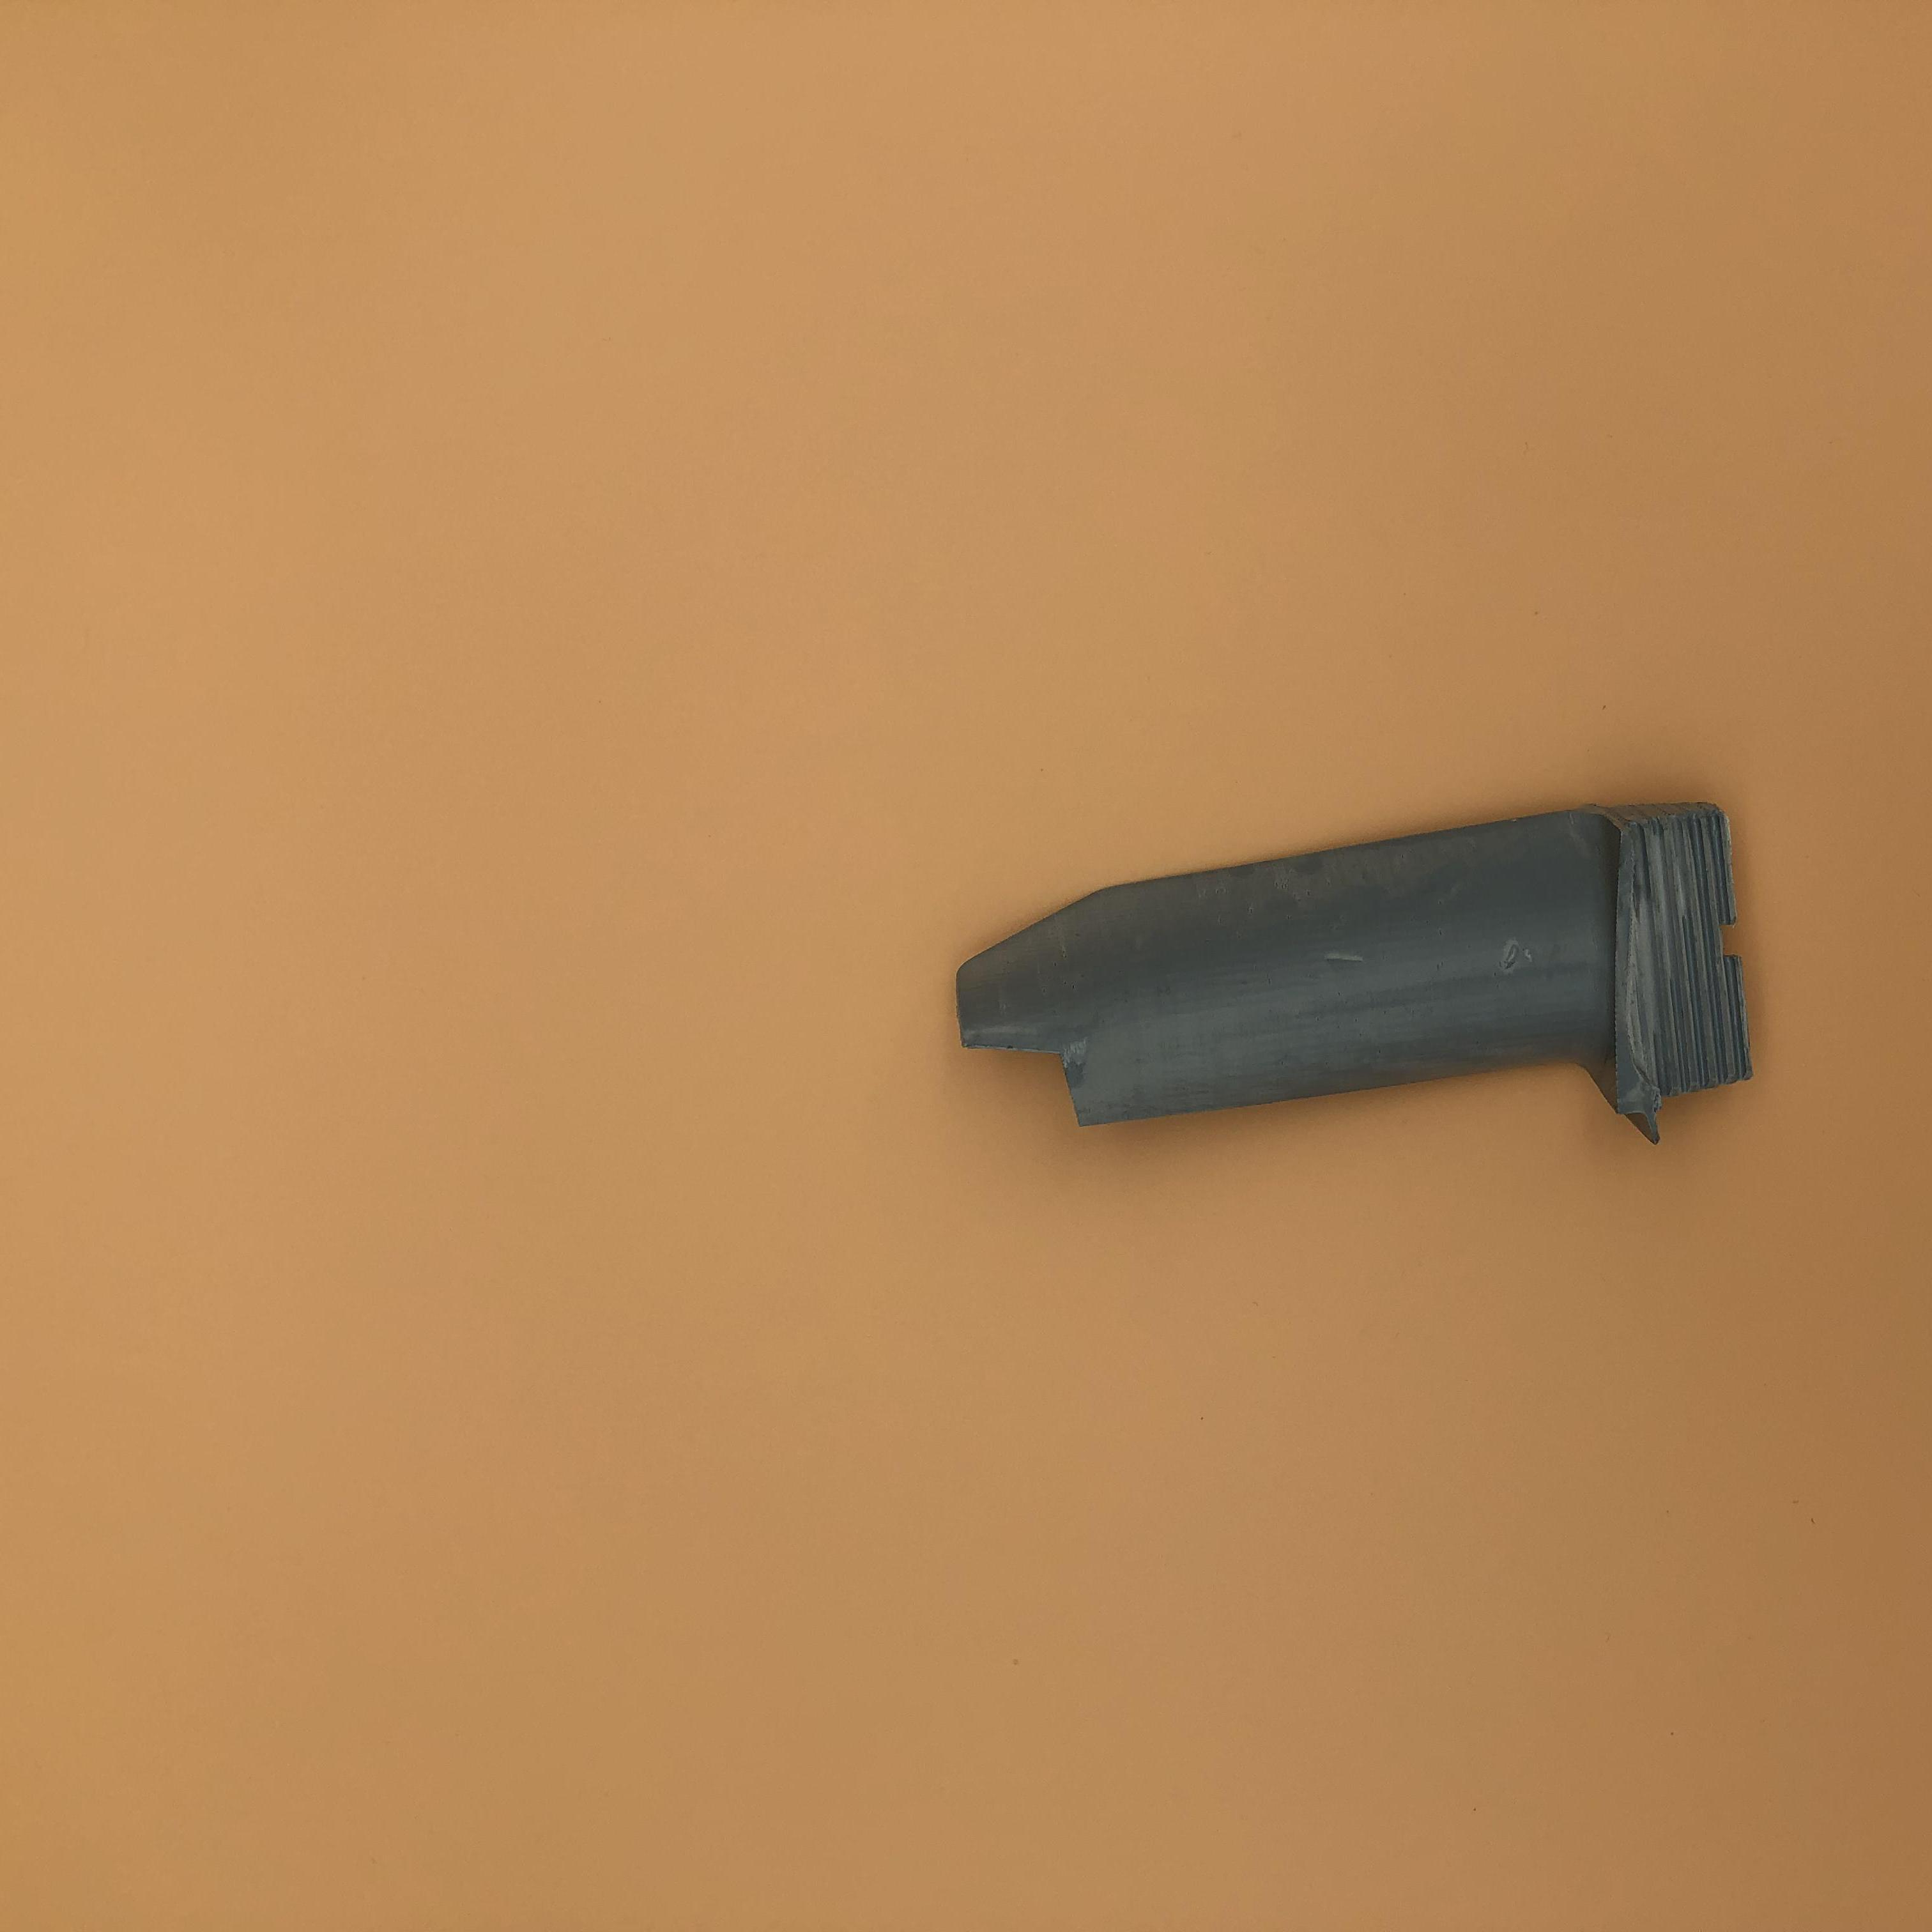fracture: (973, 1028, 1106, 1132)
